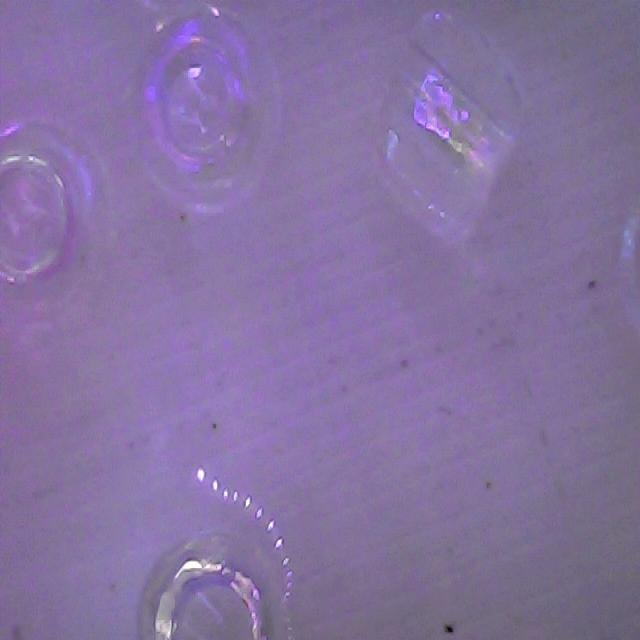beads: (334, 1, 557, 250), (142, 4, 282, 213), (0, 123, 104, 323)
